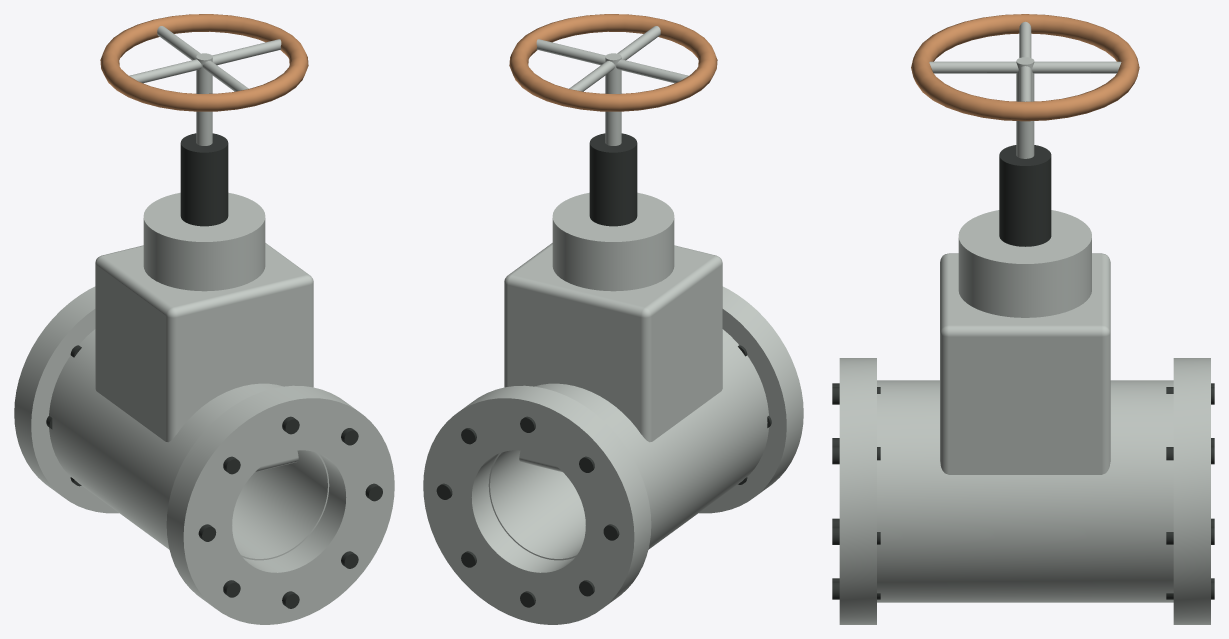
File: spacecraft-thermal-test-chamber-vacuum-isolation-valve-e8b9f637__32045.glb
3 views of the same model, side by side, from view 1: azimuth 30°, elevation 25°; view 2: azimuth 150°, elevation 25°; view 3: azimuth 270°, elevation 25° (orthographic). The views are drawn at different scales.
Parts seen in each view (by area): view 1: vacuum-isolation-valve; view 2: vacuum-isolation-valve; view 3: vacuum-isolation-valve.
Part boxes in pixels (x1,y1,x2,y2): vacuum-isolation-valve: [14, 14, 394, 624]; vacuum-isolation-valve: [423, 14, 803, 624]; vacuum-isolation-valve: [832, 14, 1214, 624].
Size of the model in its own units: 0.36 by 0.824 by 0.515.
